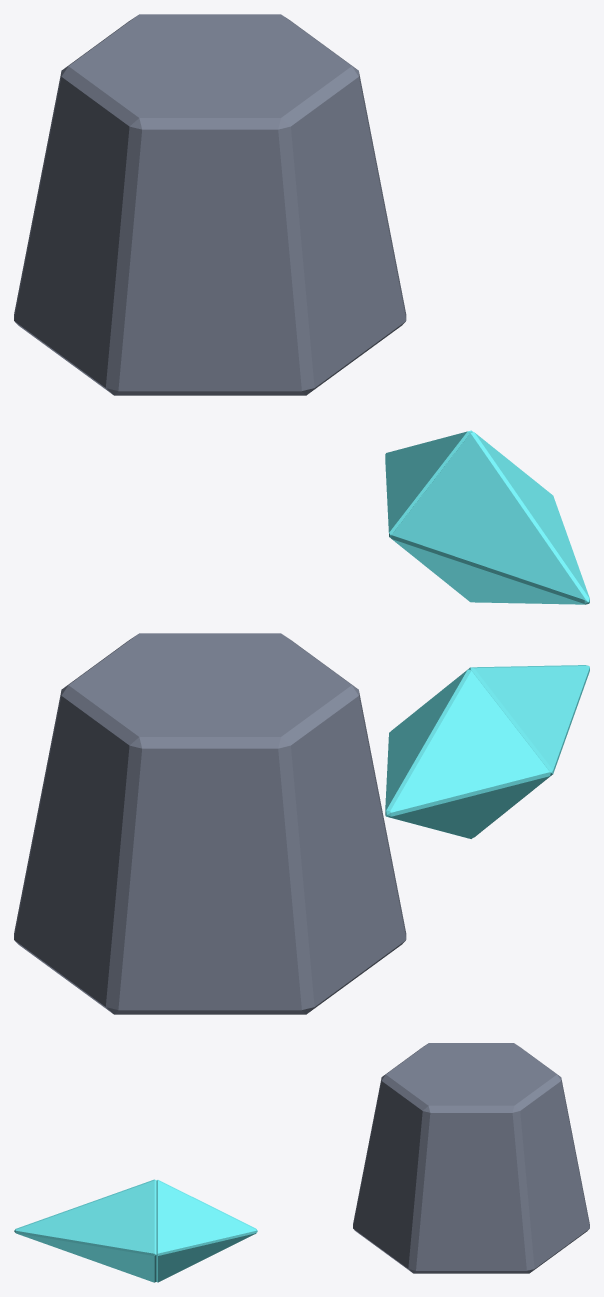
Rendered from Env_RuneCrystalSwitch.fbx.
The picture shows the model from 3 angles, top to bottom: view 1: azimuth 30°, elevation 25°; view 2: azimuth 150°, elevation 25°; view 3: azimuth 270°, elevation 25°; orthographic projection. The views are drawn at different scales.
Parts seen in each view (by area): view 1: Pedestal, CrystalTop, CrystalBot; view 2: Pedestal, CrystalBot, CrystalTop; view 3: Pedestal, CrystalTop, CrystalBot.
Part boxes in pixels (<box>): Pedestal: <box>14,14,406,395</box>; CrystalTop: <box>391,432,589,604</box>; CrystalBot: <box>385,430,473,538</box>; Pedestal: <box>14,633,406,1014</box>; CrystalBot: <box>385,669,550,838</box>; CrystalTop: <box>391,665,589,837</box>; Pedestal: <box>353,1043,589,1273</box>; CrystalTop: <box>14,1179,156,1282</box>; CrystalBot: <box>156,1180,257,1282</box>.
Size of the model in its own units: 0.8253 by 0.9021 by 2.27.
